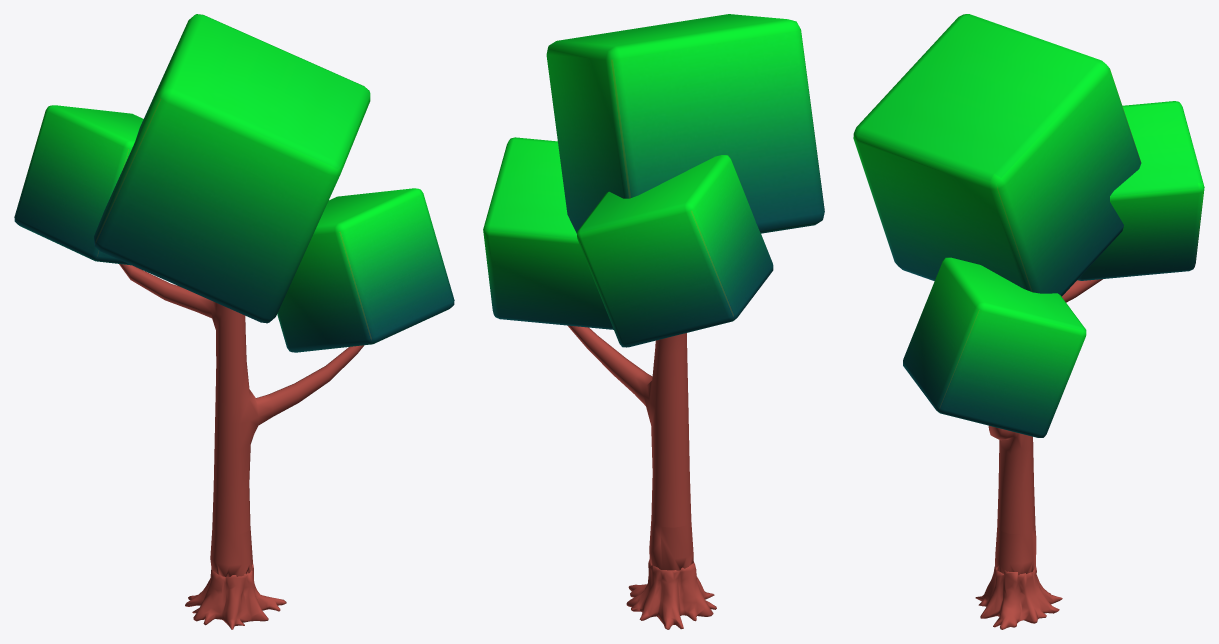
Rendered from TreeKirik.fbx.
3 views of the same model, side by side, from view 1: azimuth 30°, elevation 25°; view 2: azimuth 150°, elevation 25°; view 3: azimuth 270°, elevation 25° (orthographic). The views are drawn at different scales.
Parts seen in each view (by area): view 1: Tree2_1.001, ProjektM_Large_high_meshId0_name.002; view 2: Tree2_1.001, ProjektM_Large_high_meshId0_name.002; view 3: Tree2_1.001, ProjektM_Large_high_meshId0_name.002.
Boxes of the visible parts, x1,y1,x2,y2 form: Tree2_1.001: [14, 14, 454, 577]; ProjektM_Large_high_meshId0_name.002: [185, 564, 286, 629]; Tree2_1.001: [483, 14, 824, 570]; ProjektM_Large_high_meshId0_name.002: [626, 559, 716, 629]; Tree2_1.001: [853, 14, 1204, 575]; ProjektM_Large_high_meshId0_name.002: [975, 566, 1062, 629].
Size of the model in its own units: 2.68 by 4.44 by 2.55.
